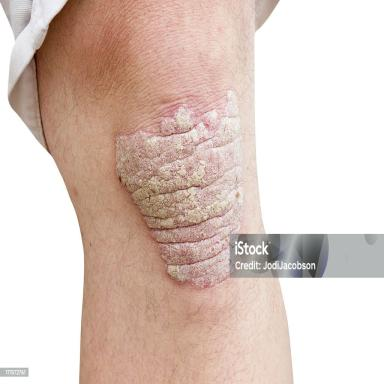Psoriasis: (115, 90, 243, 288)
